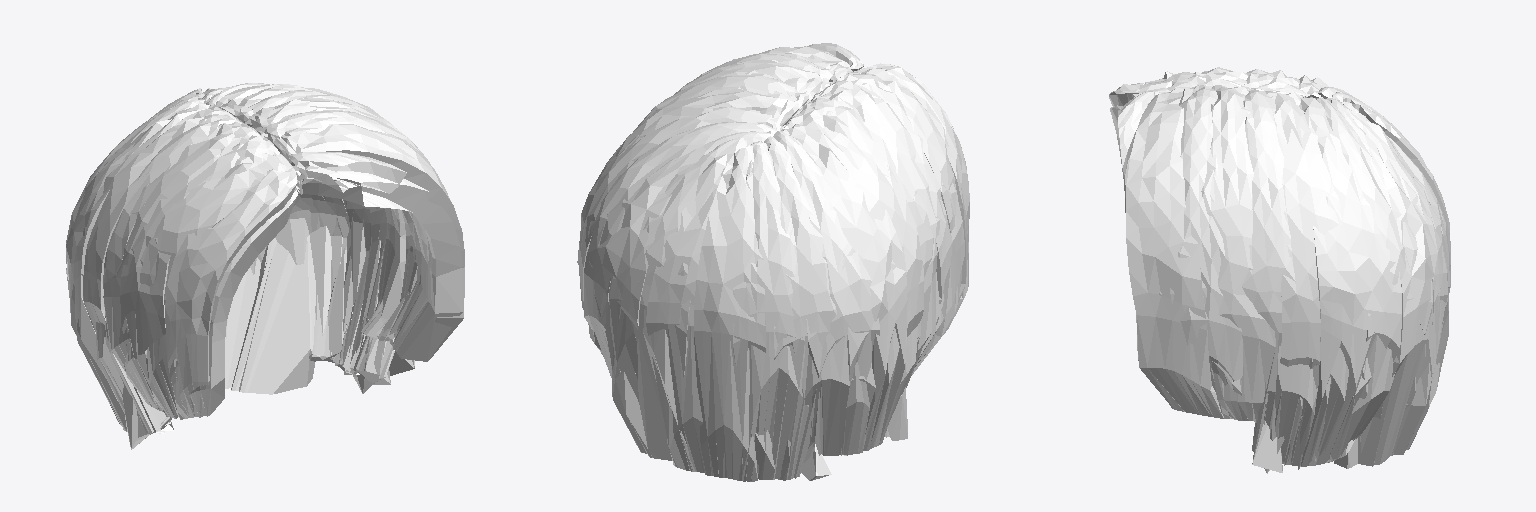
The model's file is newhair.obj.
The picture shows the model from 3 angles: view 1: azimuth 30°, elevation 25°; view 2: azimuth 150°, elevation 25°; view 3: azimuth 270°, elevation 25°; orthographic projection.
Parts seen in each view (by area): view 1: Item_0; view 2: Item_0; view 3: Item_0.
Boxes of the visible parts, x1,y1,x2,y2 form: Item_0: [66, 83, 464, 449]; Item_0: [577, 43, 969, 481]; Item_0: [1109, 67, 1450, 473].
Size of the model in its own units: 0.0949 by 0.0977 by 0.0895.